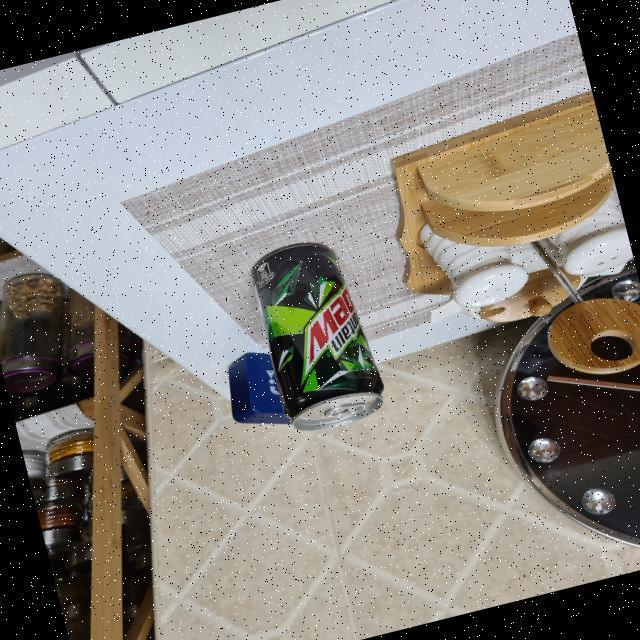can: (244, 233, 388, 438)
